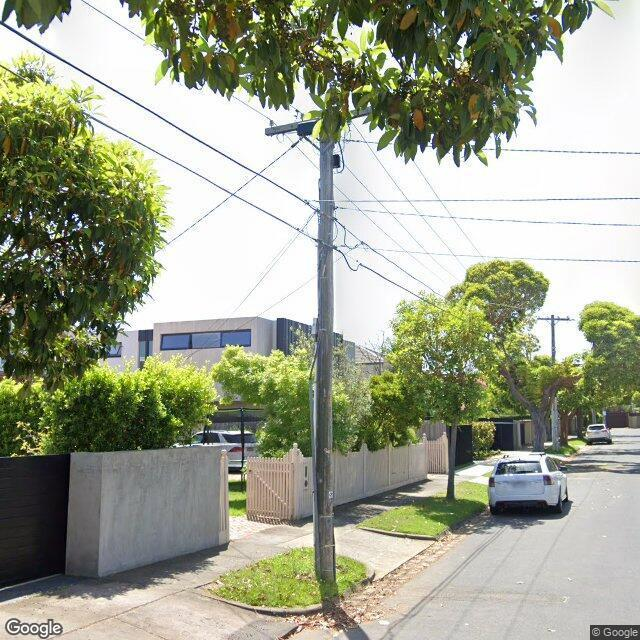crossarm: (265, 106, 374, 136), (536, 318, 570, 320)
timber-pole: (313, 140, 335, 581), (551, 314, 559, 450)
